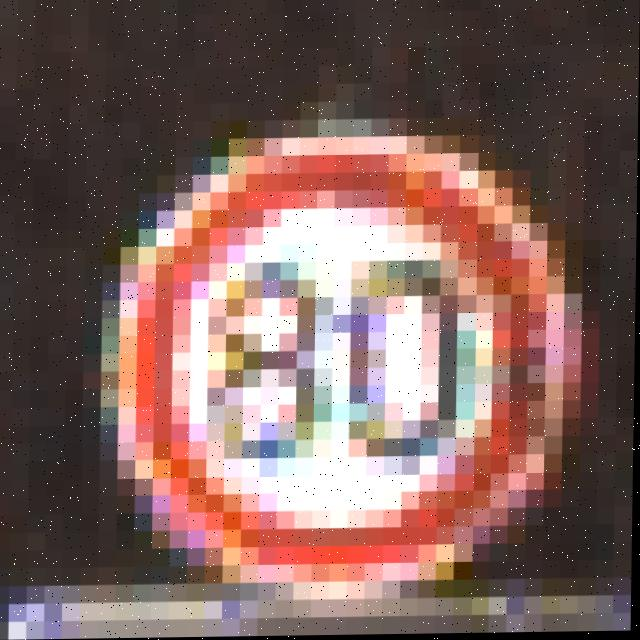speed_limit_80: (119, 141, 580, 602)
